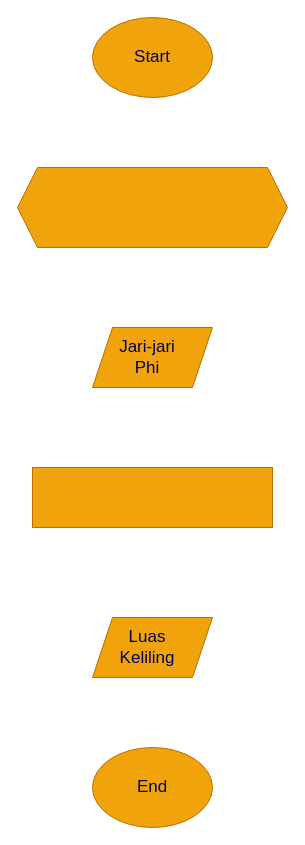
This 305x845 diagram has some shape labels left out. Each missing label, with the box of its shape:
Int : jari-jari Double : phi, luas , keliling: (16, 166, 288, 248)
Luas : phi * r * r Keliling : phi * (r + r): (32, 466, 272, 528)
